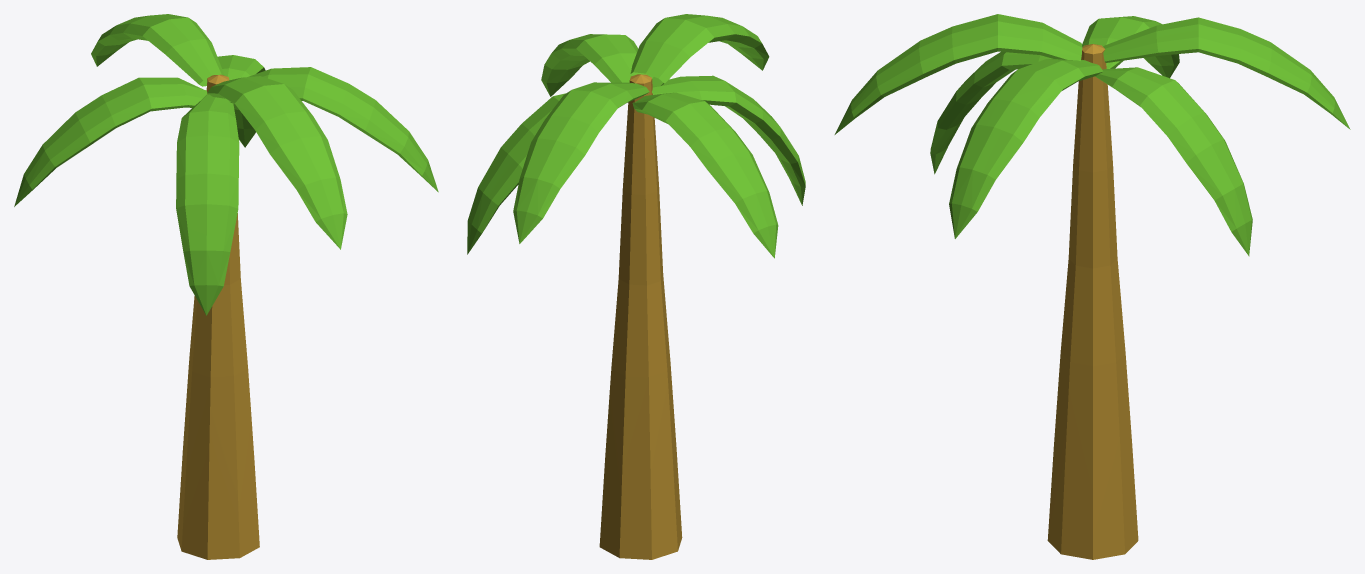
The model's file is palmtree.obj.
3 renders of one model, left to right at view 1: azimuth 30°, elevation 25°; view 2: azimuth 150°, elevation 25°; view 3: azimuth 270°, elevation 25°, orthographic. The views are drawn at different scales.
Parts seen in each view (by area): view 1: 円.002; view 2: 円.002; view 3: 円.002.
Boxes of the visible parts, left/top/right/bottom form: 円.002: left=14, top=14, right=438, bottom=559; 円.002: left=467, top=14, right=805, bottom=559; 円.002: left=834, top=14, right=1350, bottom=559.
Size of the model in its own units: 5.19 by 7.49 by 6.75.
Materials: 1 (1 with a texture image).
